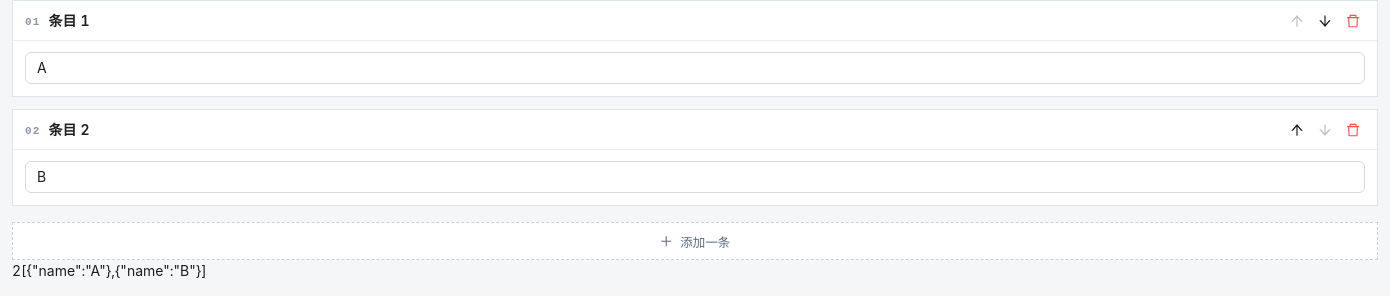
Test case: ArrayEditor › 删除按钮移除对应条目
The width and height of the screenshot is (1390, 296).
Click the button named "删除第 1 条" at (1353,20), box top-left (1341, 8), bottom-right (1365, 32)
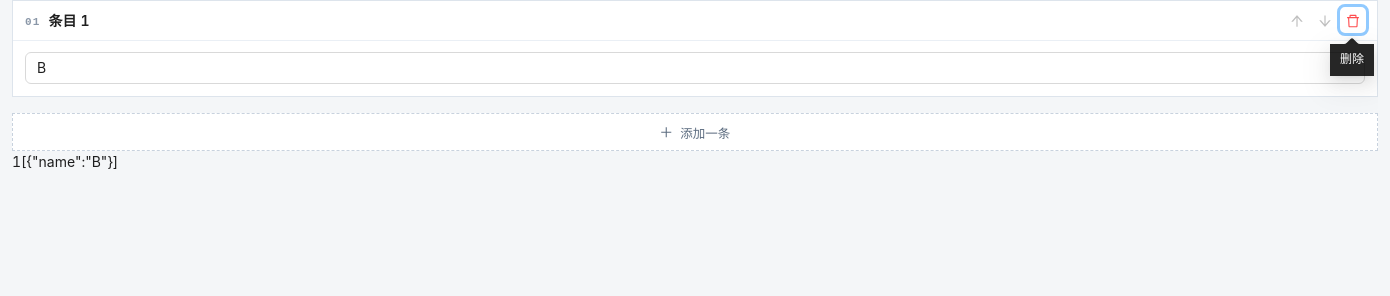
Now the text with test id "snapshot" reads "[{\"name\":\"B\"}]", box top-left (21, 153), bottom-right (118, 170)
